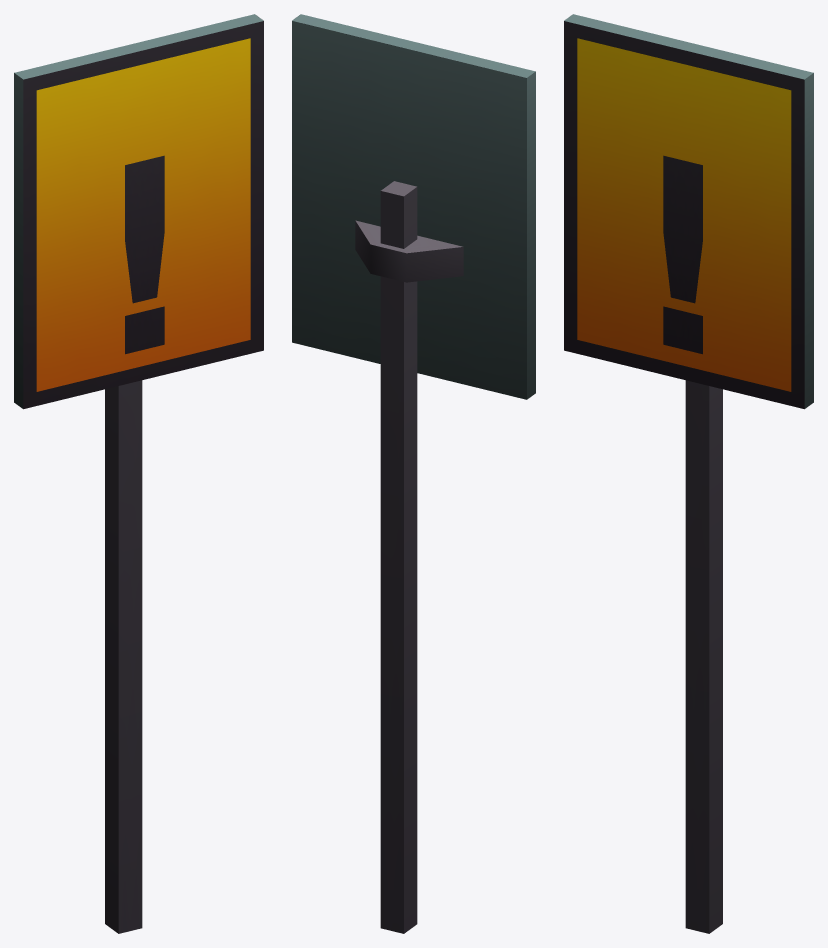
Rendered from Streetsign_Helmet.fbx.
3 renders of one model, left to right at view 1: azimuth 30°, elevation 25°; view 2: azimuth 150°, elevation 25°; view 3: azimuth 330°, elevation 25°, orthographic. The views are drawn at different scales.
Parts seen in each view (by area): view 1: Streetsign_2I; view 2: Streetsign_2I; view 3: Streetsign_2I.
Boxes of the visible parts, left/top/right/bottom form: Streetsign_2I: left=14, top=14, right=263, bottom=933; Streetsign_2I: left=292, top=14, right=535, bottom=933; Streetsign_2I: left=564, top=14, right=813, bottom=933.
Size of the model in its own units: 90 by 318 by 20.66.
